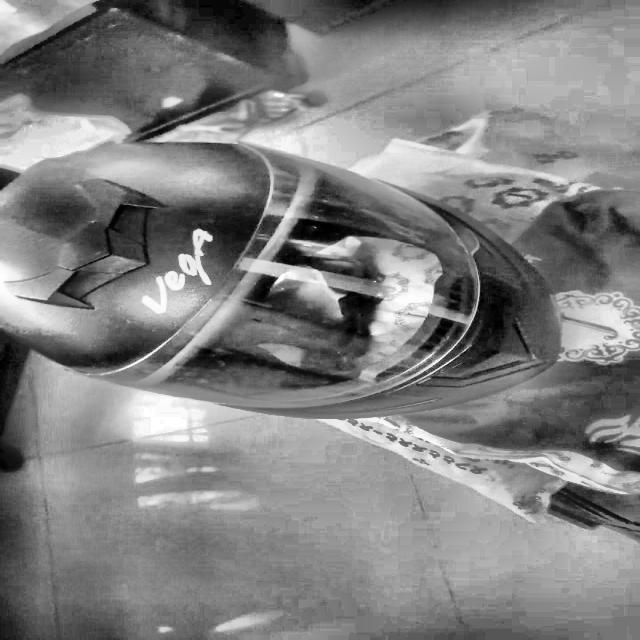Helmet: (0, 128, 565, 414)
